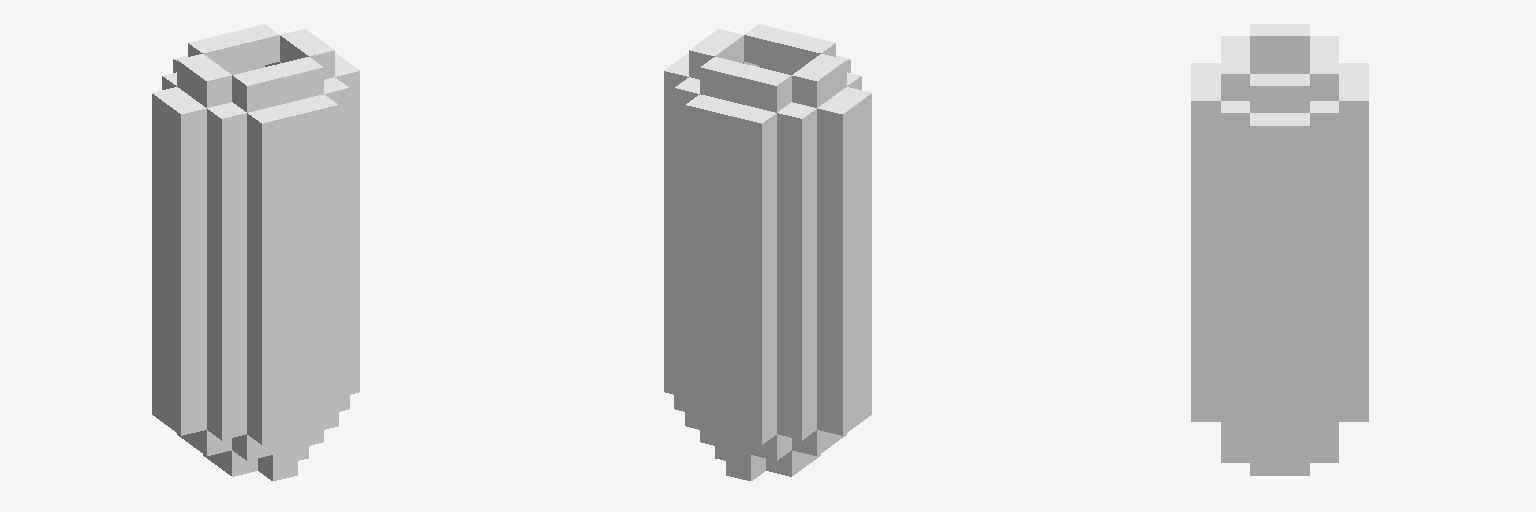
The model's file is BlueTubularCoralLarge-0.obj.
The picture shows the model from 3 angles: view 1: azimuth 30°, elevation 25°; view 2: azimuth 150°, elevation 25°; view 3: azimuth 270°, elevation 25°; orthographic projection.
Visible parts, largest first — view 1: object 1; view 2: object 1; view 3: object 1.
Boxes of the visible parts, <box> form: object 1: <box>152,24,359,480</box>; object 1: <box>664,24,871,480</box>; object 1: <box>1191,24,1368,475</box>.
Bounding box in the file's own units: 0.7 × 1.5 × 0.6.